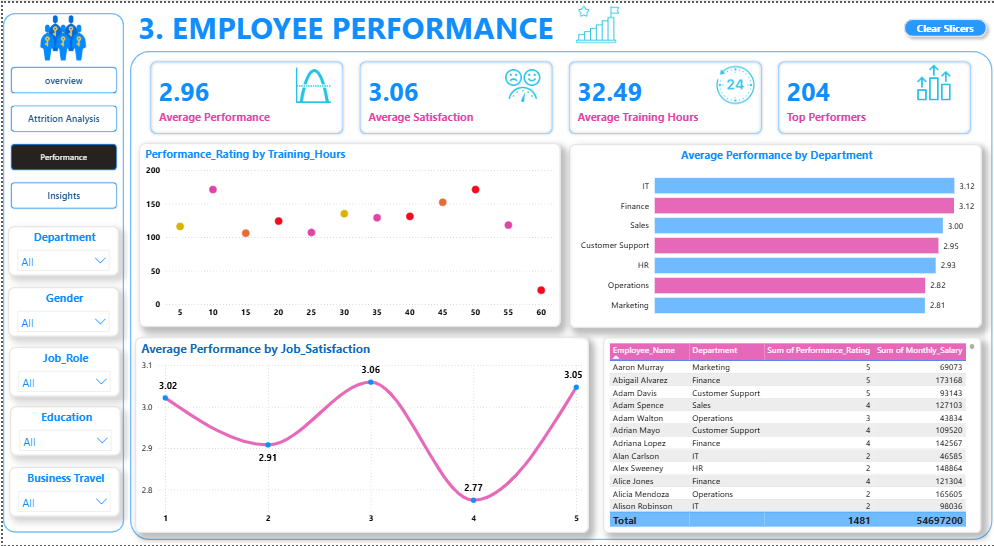

What the dashboard file says about the page in this screenshot:
{"tool":"powerbi","page":{"name":"Performance","canvas":[1580,860],"ordinal":2},"visuals":[{"type":"shape","box":[0,15.3,192.1,824.5],"z":0},{"type":"shape","box":[201,76.9,1368.7,776.1],"z":1000},{"type":"textbox","box":[209,0,689.8,76.5],"z":2000},{"type":"slicer","title":"Education","fields":{"Values":["Sheet1.Education"]},"box":[11.3,639.8,176.2,78.8],"z":3000},{"type":"cardVisual","fields":{"Data":["Sheet1.Average Performance","Sheet1.Average Satisfaction","Sheet1.Average Training Hours","Sheet1.Top Performers"]},"box":[209.8,68.2,1354.7,164.3],"z":4000},{"type":"clusteredBarChart","fields":{"Category":["Sheet1.Department"],"Y":["Sheet1.Average Performance"]},"box":[898.5,223.7,655.5,291.9],"z":5000},{"type":"tableEx","fields":{"Values":["Sheet1.Employee_Name","Sheet1.Department","Sum(Sheet1.Performance_Rating)","Sum(Sheet1.Monthly_Salary)"]},"box":[952.6,529.6,599.6,311.1],"z":6000},{"type":"scatterChart","title":"Performance_Rating by Training_Hours ","fields":{"Y":["Sum(Sheet1.Performance_Rating)"],"X":["Sheet1.Training_Hours (bins)"]},"box":[215,222,669.5,291.9],"z":7000},{"type":"lineChart","fields":{"Category":["Sheet1.Job_Satisfaction"],"Y":["Sheet1.Average Performance"]},"box":[209.8,529.6,720.2,311.1],"z":8000},{"type":"slicer","title":"Department","fields":{"Values":["Sheet1.Department"]},"box":[8.2,353.9,176.2,78.8],"z":9000},{"type":"slicer","title":"Gender","fields":{"Values":["Sheet1.Gender"]},"box":[8.2,451.3,176.2,78.8],"z":10000},{"type":"slicer","title":"Job_Role","fields":{"Values":["Sheet1.Job_Role"]},"box":[9.7,545.5,176.2,78.8],"z":11000},{"type":"slicer","title":"Business Travel","fields":{"Values":["Sheet1.Business_Travel"]},"box":[9.1,736,176.2,79.5],"z":12000},{"type":"pageNavigator","box":[10.8,100.2,171,228],"z":13000},{"type":"actionButton","box":[1419.3,15.7,150.3,47.2],"z":14000},{"type":"image","box":[36.9,15.8,117.9,79.2],"z":15000},{"type":"image","box":[790,100.2,69.7,61.2],"z":16000},{"type":"image","box":[451.9,100.2,81.5,61.2],"z":17000},{"type":"image","box":[1117.9,93.4,86.6,73.1],"z":18000},{"type":"image","box":[1437.3,95.1,78.2,62.9],"z":19000},{"type":"image","box":[880,0,125.7,68],"z":20000}]}

Visuals, with their boxes in screenshot pixels (x1, y1, x2, y2), scaled from the page's 1580x860 canvas onto the 994x546 screenshot:
shape: rect(0, 10, 121, 533)
shape: rect(126, 49, 988, 542)
textbox: rect(131, 0, 565, 49)
"Education" slicer: rect(7, 406, 118, 456)
cardVisual - Sheet1.Average Performance x Sheet1.Average Satisfaction: rect(132, 43, 984, 148)
clusteredBarChart - Sheet1.Department x Sheet1.Average Performance: rect(565, 142, 978, 327)
tableEx - Sheet1.Employee_Name x Sheet1.Department: rect(599, 336, 977, 534)
"Performance_Rating by Training_Hours " scatterChart: rect(135, 141, 556, 326)
lineChart - Sheet1.Job_Satisfaction x Sheet1.Average Performance: rect(132, 336, 585, 534)
"Department" slicer: rect(5, 225, 116, 275)
"Gender" slicer: rect(5, 287, 116, 337)
"Job_Role" slicer: rect(6, 346, 117, 396)
"Business Travel" slicer: rect(6, 467, 117, 518)
pageNavigator: rect(7, 64, 114, 208)
actionButton: rect(893, 10, 987, 40)
image: rect(23, 10, 97, 60)
image: rect(497, 64, 541, 102)
image: rect(284, 64, 336, 102)
image: rect(703, 59, 758, 106)
image: rect(904, 60, 953, 100)
image: rect(554, 0, 633, 43)
